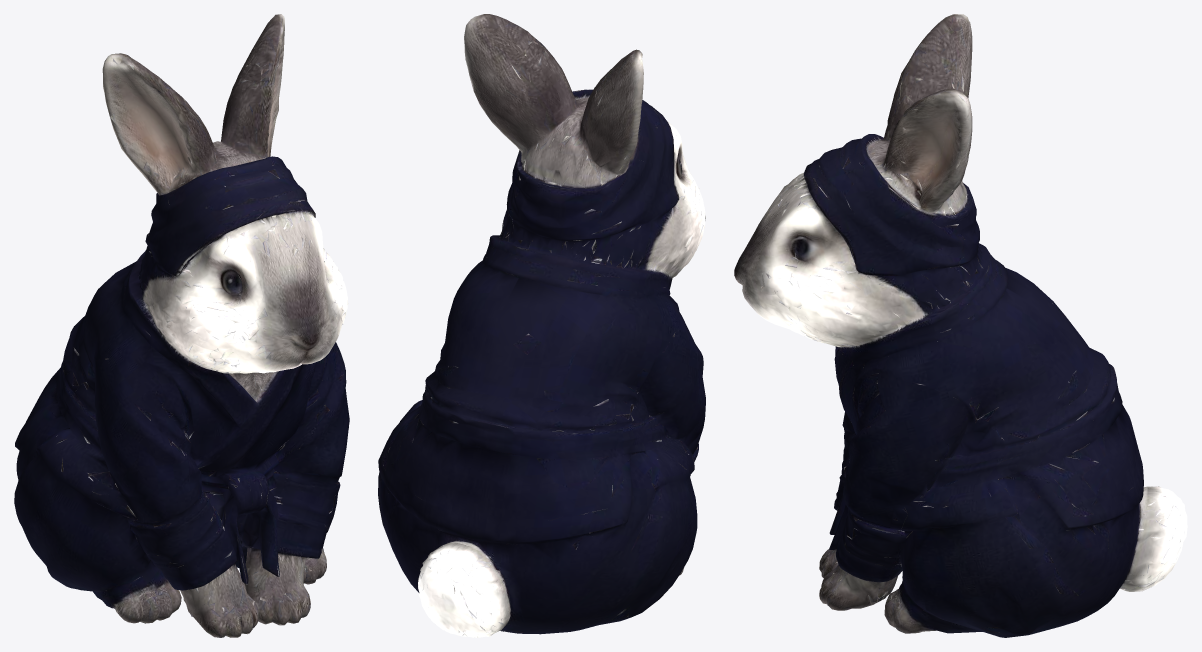
Rendered from costume-ninja_rabbit-white.glb.
3 renders of one model, left to right at view 1: azimuth 30°, elevation 25°; view 2: azimuth 150°, elevation 25°; view 3: azimuth 270°, elevation 25°, orthographic.
Parts seen in each view (by area): view 1: Mesh_0; view 2: Mesh_0; view 3: Mesh_0.
Part boxes in pixels (x1,y1,x2,y2): Mesh_0: (14, 14, 349, 637); Mesh_0: (378, 14, 705, 637); Mesh_0: (734, 14, 1187, 637).
Bounding box in the file's own units: 1.07 × 1.9 × 1.46.
1 material, 1 textured.
